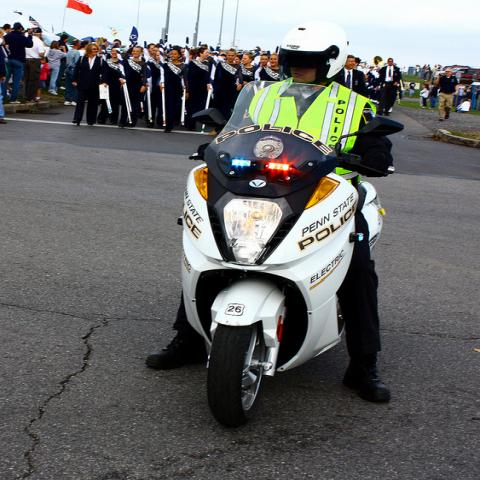car: (433, 67, 479, 84), (471, 81, 479, 89)
motorcycle: (176, 115, 406, 427)
